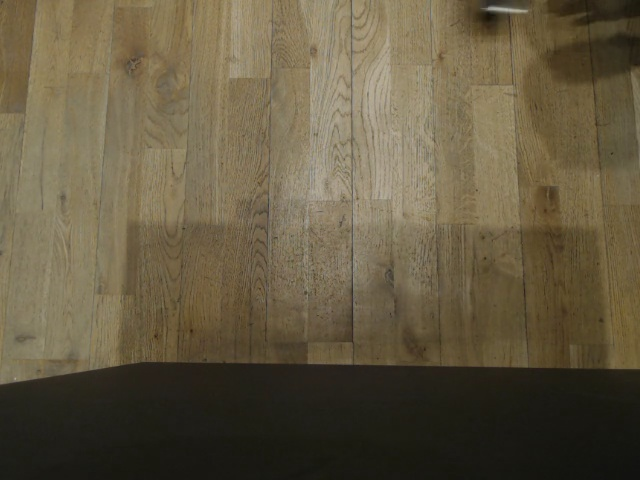beer: (468, 0, 533, 14)
